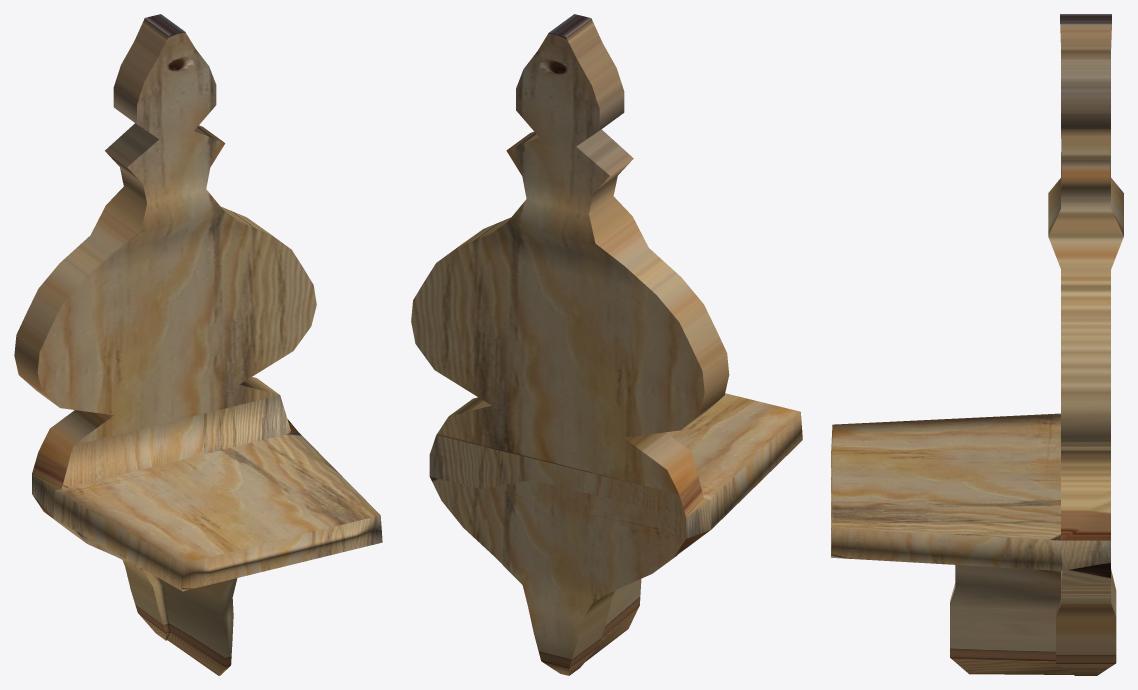
The model's file is alt.fbx.
3 views of the same model, side by side, from view 1: azimuth 30°, elevation 25°; view 2: azimuth 150°, elevation 25°; view 3: azimuth 270°, elevation 25° (orthographic). The views are drawn at different scales.
Parts seen in each view (by area): view 1: pasted__pCube1; view 2: pasted__pCube1; view 3: pasted__pCube1.
Part boxes in pixels (x1=…): pasted__pCube1: x1=14, y1=14, x2=382, y2=675; pasted__pCube1: x1=411, y1=14, x2=802, y2=675; pasted__pCube1: x1=831, y1=14, x2=1123, y2=675.
Bounding box in the file's own units: 6.91 × 14.47 × 5.86.
1 material, 1 textured.
